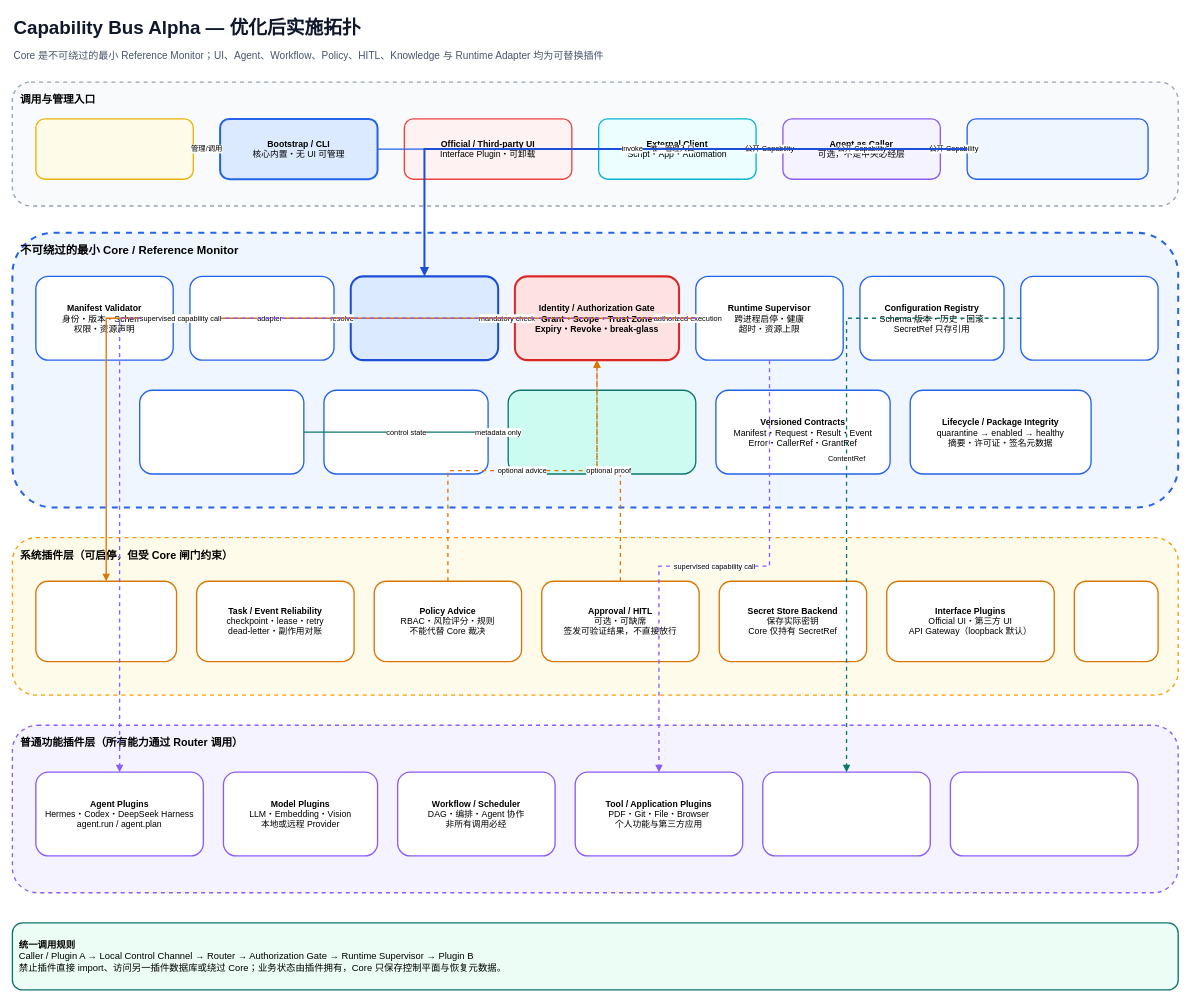
Some shapes in this 1191 by 1002 pixel diagram are drawn without their labels. Each missing label, with the centre of its shape:
Audit Metadata 身份・裁决・生命周期 不记录正文、密钥、Prompt: point (405, 431)
Capability Router 统一调用入口 Provider 解析・版本契约: point (424, 318)
Content Store Plugins Filesystem・SiYuan・Object Store 拥有内容，不暴露私有数据库: point (846, 813)
Core Control-plane SQLite Registry・Grant・Config・Invocation 不是插件业务存储: point (601, 431)
Human / Owner 普通用户・开发者・管理员: point (114, 149)
Invocation Ledger 授权后幂等・原子预留 结果引用・失败分类: point (221, 431)
Local Control Channel Unix Socket 优先・loopback only: point (1057, 149)
Memory / Knowledge Plugins Recall・Index・RAG 与 Content Store 解耦: point (1043, 813)
Persistent Registry 插件・Capability 稳定系统 ID・生命周期: point (261, 317)
Runtime Adapters MCP・HTTP・Docker Desktop・Remote: point (106, 621)
Scheduler / Metrics 通知・日志导出 指标与清理任务: point (1115, 621)
Workspace / ContentRef Boundary 大内容不穿过总线 文件与资源范围隔离: point (1089, 317)
